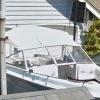Boat: (7, 39, 100, 87)
